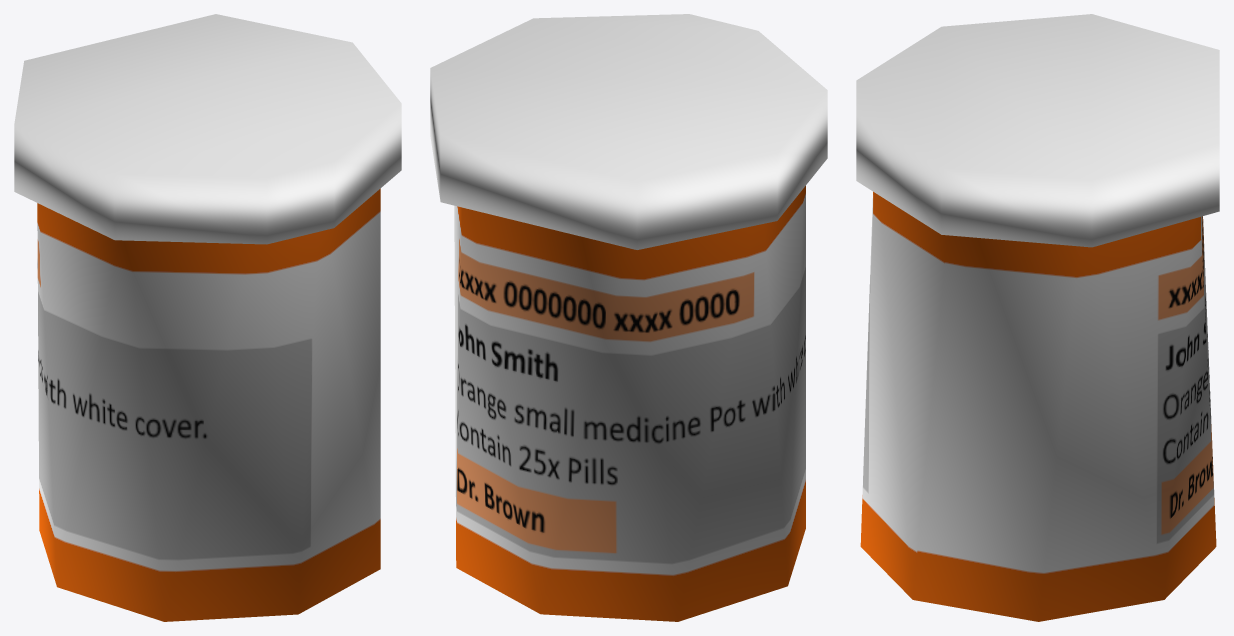
3 views of the same model, side by side, from view 1: azimuth 30°, elevation 25°; view 2: azimuth 150°, elevation 25°; view 3: azimuth 270°, elevation 25° (orthographic). The views are drawn at different scales.
Parts seen in each view (by area): view 1: Medicine_0; view 2: Medicine_0; view 3: Medicine_0.
Boxes of the visible parts, x1,y1,x2,y2 form: Medicine_0: (14,14,401,621); Medicine_0: (430,14,827,621); Medicine_0: (856,14,1219,621).
Bounding box in the file's own units: 2.21 × 2.79 × 2.04.
2 materials, 2 textured.
